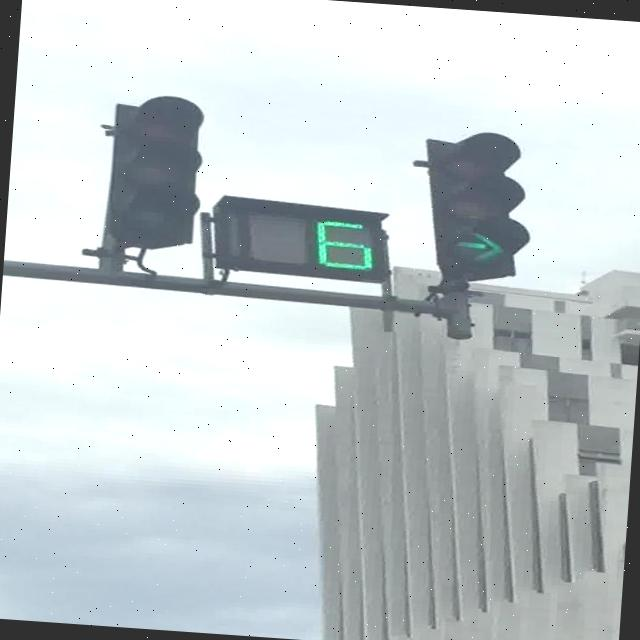green_light: (413, 127, 538, 283)
